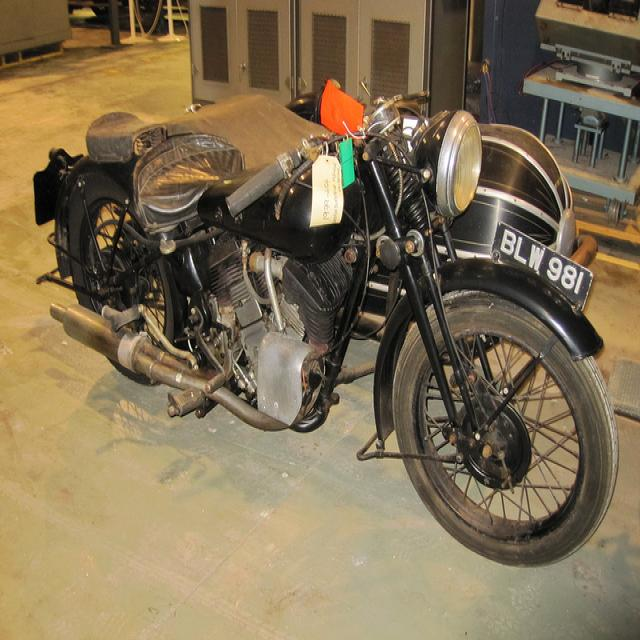motor: (33, 75, 620, 567)
